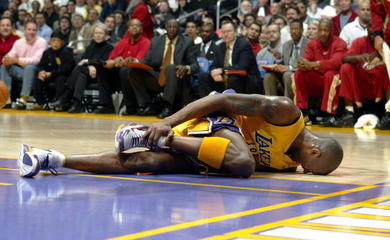10+: (1, 1, 390, 179)
down: (16, 93, 344, 178)
